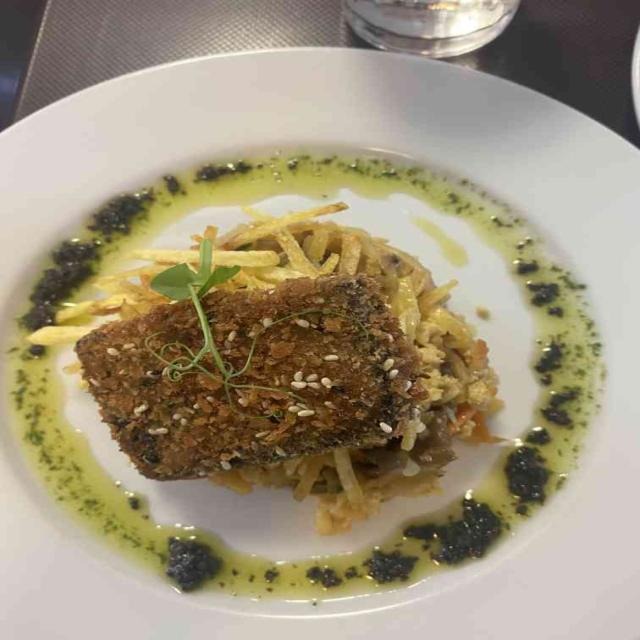cake: (75, 276, 428, 479)
garbage: (9, 150, 605, 599), (317, 447, 454, 534)
plate: (0, 48, 639, 639)
